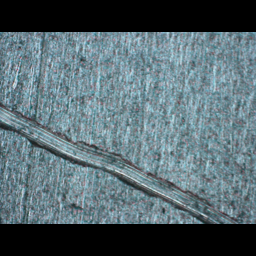d: (0, 98, 242, 223)
